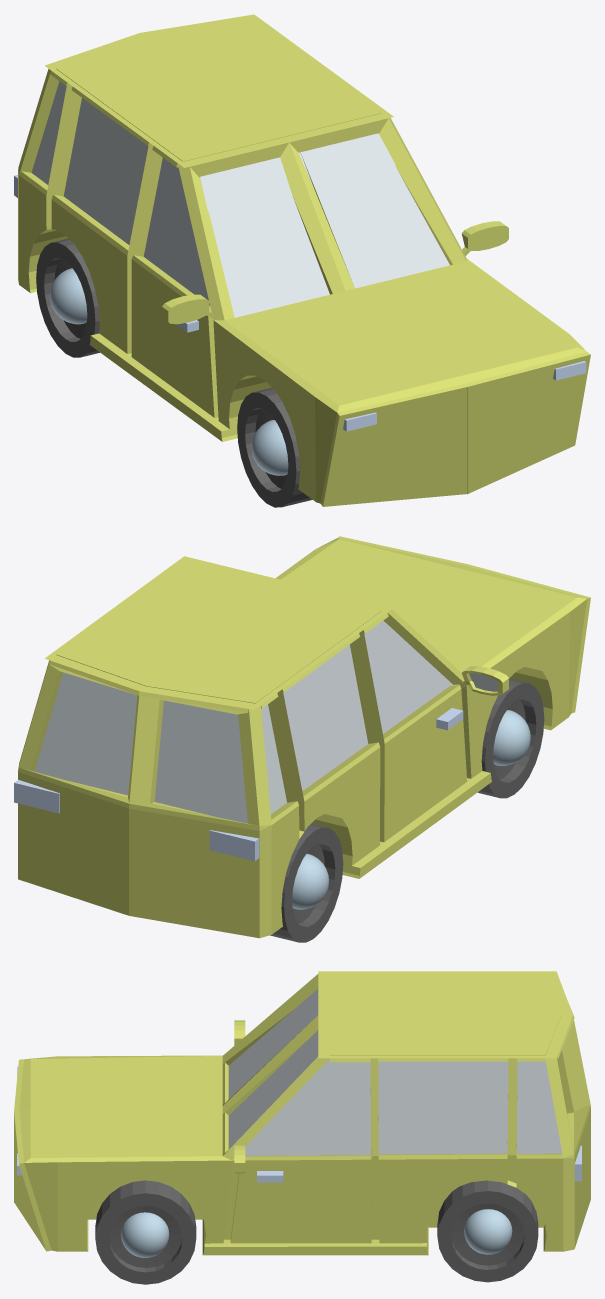
The model's file is yellowGumballCar.fbx.
The picture shows the model from 3 angles, top to bottom: view 1: azimuth 30°, elevation 25°; view 2: azimuth 150°, elevation 25°; view 3: azimuth 270°, elevation 25°; orthographic projection. The views are drawn at different scales.
Parts seen in each view (by area): view 1: CarBase, Windows, Wheels, Gumball, FrontLights; view 2: CarBase, Windows, Wheels, Gumball, BackLights; view 3: CarBase, Windows, Wheels, Gumball.
Boxes of the visible parts, box(x1,y1,x2,y2) form: CarBase: box(18, 14, 590, 506); Windows: box(31, 81, 449, 317); Wheels: box(36, 238, 312, 507); Gumball: box(50, 268, 288, 475); FrontLights: box(343, 361, 586, 431); CarBase: box(18, 536, 590, 938); Windows: box(34, 620, 453, 823); Wheels: box(270, 678, 544, 942); Gumball: box(292, 710, 530, 909); BackLights: box(14, 779, 259, 861); CarBase: box(14, 971, 590, 1255); Windows: box(228, 989, 562, 1155); Wheels: box(95, 1180, 538, 1284); Gumball: box(121, 1209, 512, 1257).
Bounding box in the file's own units: 553 × 399 × 953.
